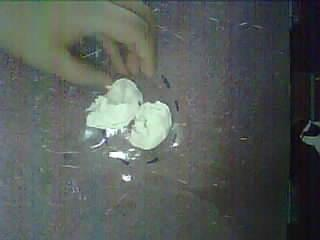paper: (88, 78, 143, 129), (130, 102, 172, 150)
